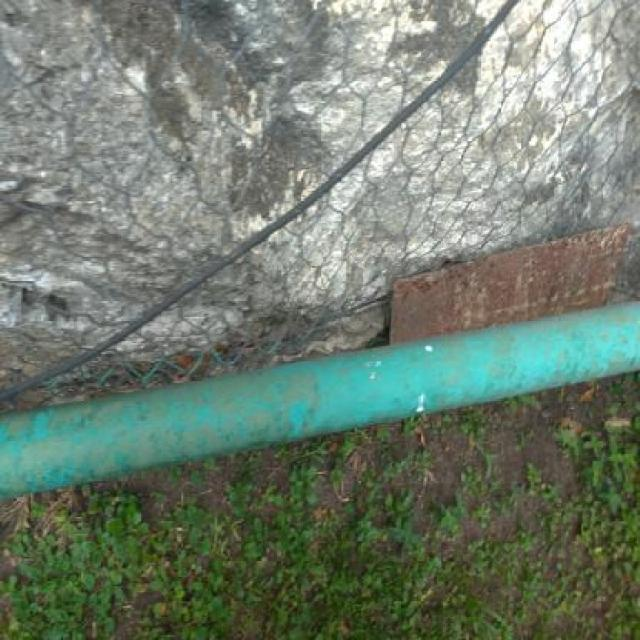gas: (3, 305, 640, 494)
